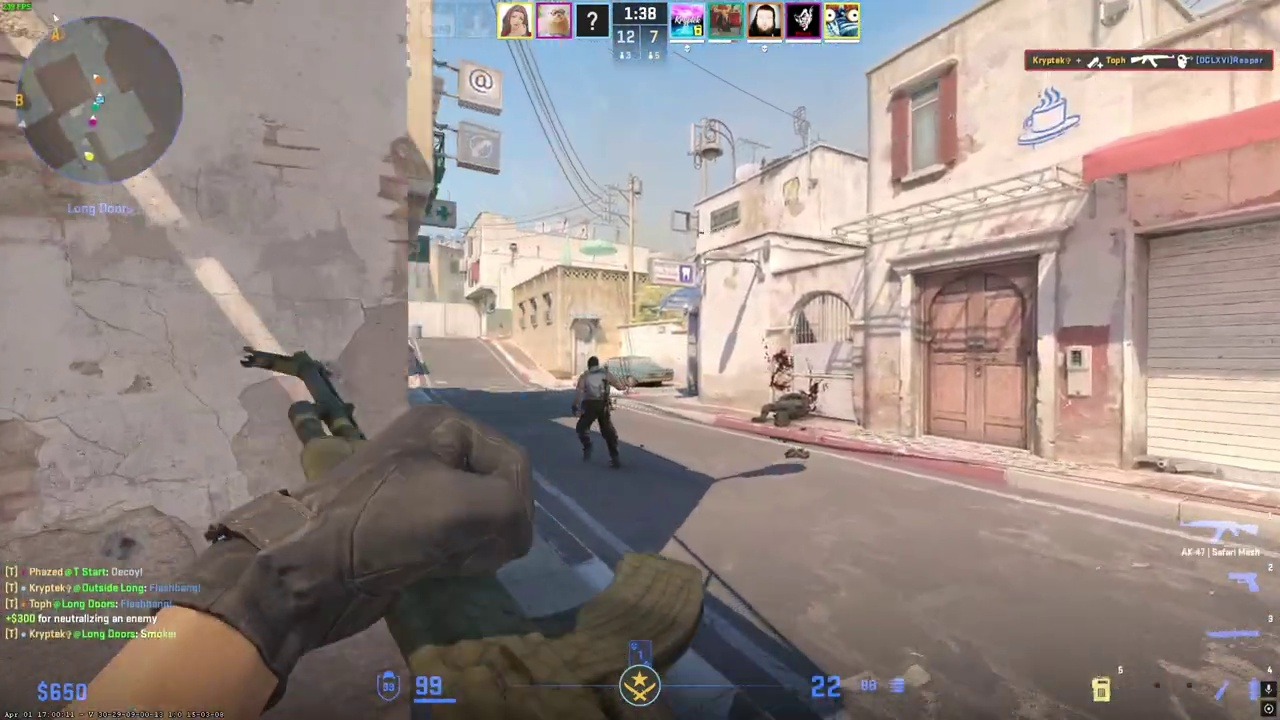Terrorist: (574, 355, 620, 469)
